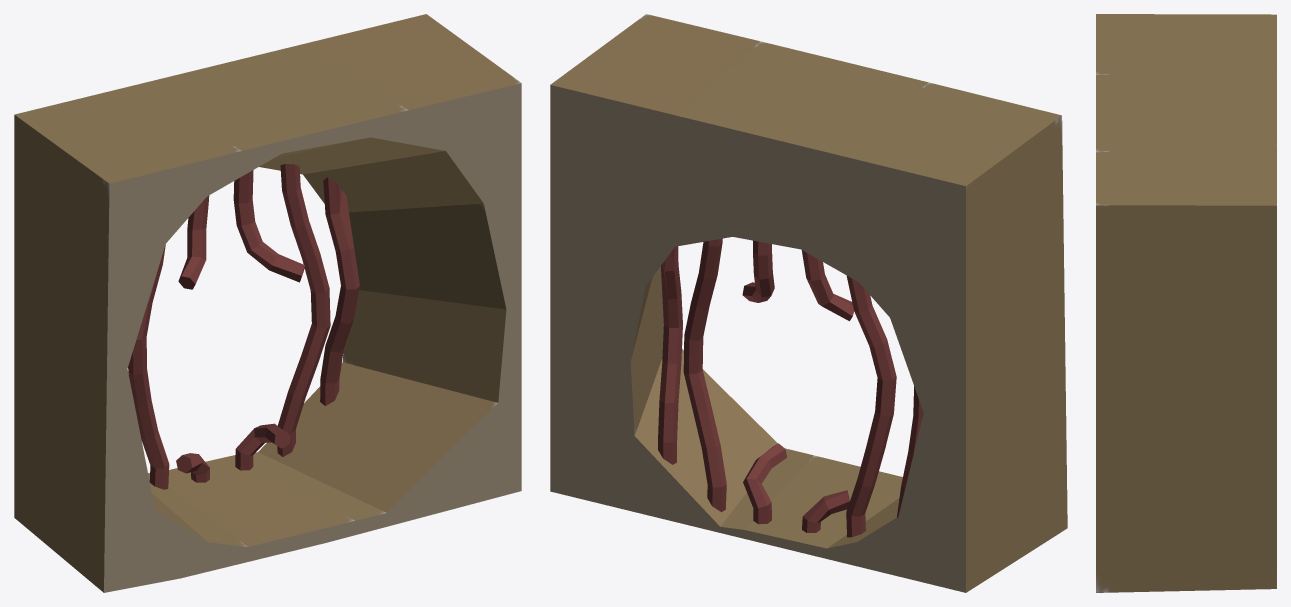
File: LightRockWallLargeCaveEntranceBrokenBars1.fbx
3 renders of one model, left to right at view 1: azimuth 30°, elevation 25°; view 2: azimuth 150°, elevation 25°; view 3: azimuth 270°, elevation 25°, orthographic. The views are drawn at different scales.
Visible parts, largest first — view 1: LightRockWallLargeCaveEntranceBrokenBars1; view 2: LightRockWallLargeCaveEntranceBrokenBars1; view 3: LightRockWallLargeCaveEntranceBrokenBars1.
Boxes of the visible parts, <box> form: LightRockWallLargeCaveEntranceBrokenBars1: <box>14,14,521,592</box>; LightRockWallLargeCaveEntranceBrokenBars1: <box>550,14,1067,592</box>; LightRockWallLargeCaveEntranceBrokenBars1: <box>1096,14,1276,592</box>.
Bounding box in the file's own units: 507 × 478 × 200.
Materials: 2 (2 with a texture image).
